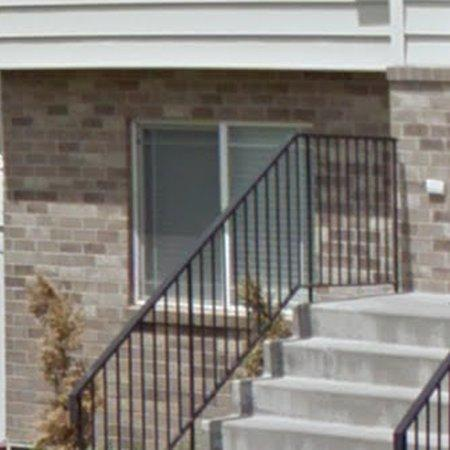stairs: (209, 295, 450, 450)
